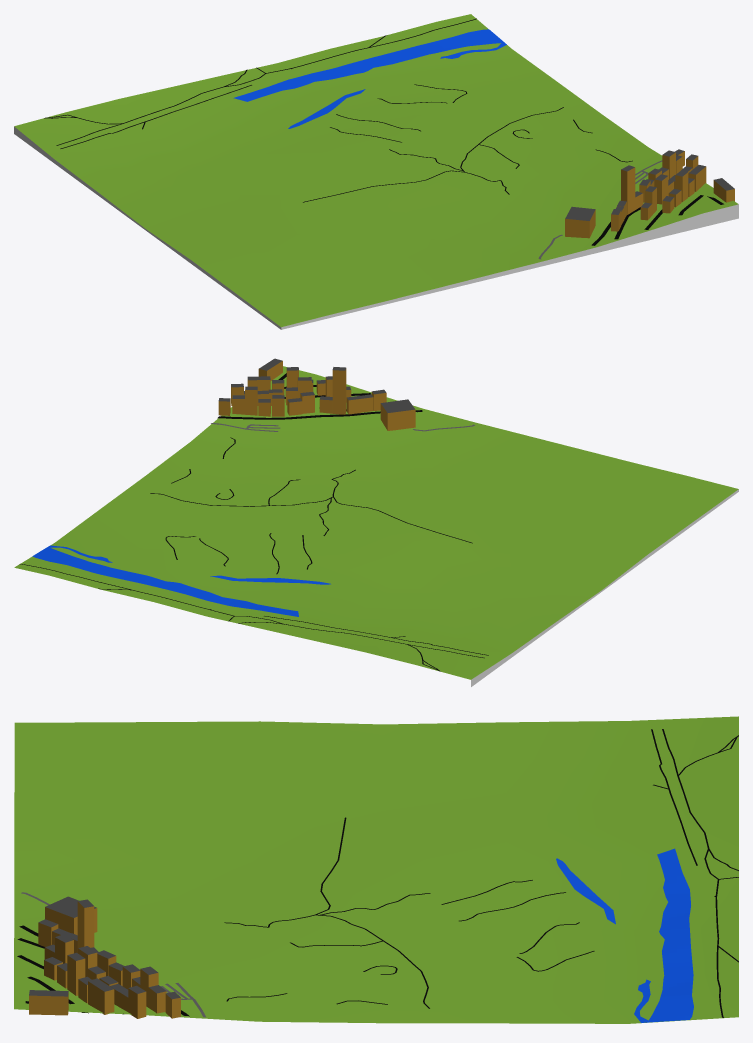
Rendered from tile_00_00.glb.
The picture shows the model from 3 angles, top to bottom: view 1: azimuth 30°, elevation 25°; view 2: azimuth 150°, elevation 25°; view 3: azimuth 270°, elevation 25°; orthographic projection. The views are drawn at different scales.
Parts seen in each view (by area): view 1: Terrain_00_00, Ub_small.osm_buildings_00_00, Ub_small.osm_water_00_00, Ub_small.osm_paths_footway_00_00; view 2: Terrain_00_00, Ub_small.osm_buildings_00_00, Ub_small.osm_water_00_00, Ub_small.osm_paths_footway_00_00, Ub_small.osm_roads_residential_00_00; view 3: Terrain_00_00, Ub_small.osm_buildings_00_00, Ub_small.osm_water_00_00, Ub_small.osm_paths_footway_00_00.
Part boxes in pixels (box(x1,y1,x2,y2)): Terrain_00_00: box(14, 14, 738, 329); Ub_small.osm_buildings_00_00: box(565, 149, 734, 238); Ub_small.osm_water_00_00: box(233, 29, 506, 128); Ub_small.osm_paths_footway_00_00: box(44, 18, 632, 202); Terrain_00_00: box(14, 366, 738, 686); Ub_small.osm_buildings_00_00: box(218, 358, 415, 430); Ub_small.osm_water_00_00: box(32, 545, 330, 616); Ub_small.osm_paths_footway_00_00: box(19, 437, 488, 671); Ub_small.osm_roads_residential_00_00: box(217, 373, 422, 419); Terrain_00_00: box(14, 716, 738, 1023); Ub_small.osm_buildings_00_00: box(29, 896, 180, 1018); Ub_small.osm_water_00_00: box(556, 848, 693, 1022); Ub_small.osm_paths_footway_00_00: box(224, 729, 738, 1017).
Bounding box in the file's own units: 909 × 96.05 × 912.
